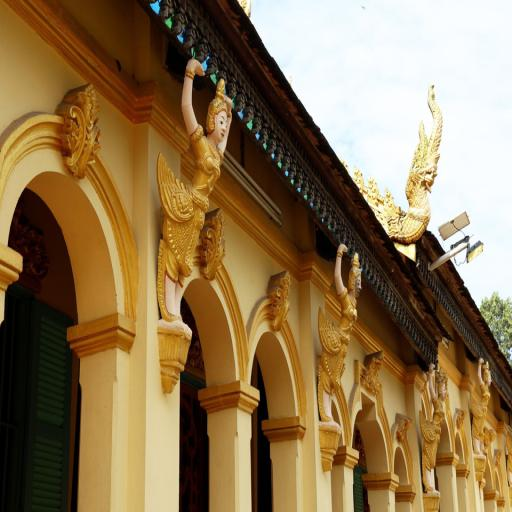ran: (340, 81, 448, 256)
than: (141, 30, 246, 328), (304, 226, 365, 440), (463, 344, 502, 465), (418, 358, 452, 493)
